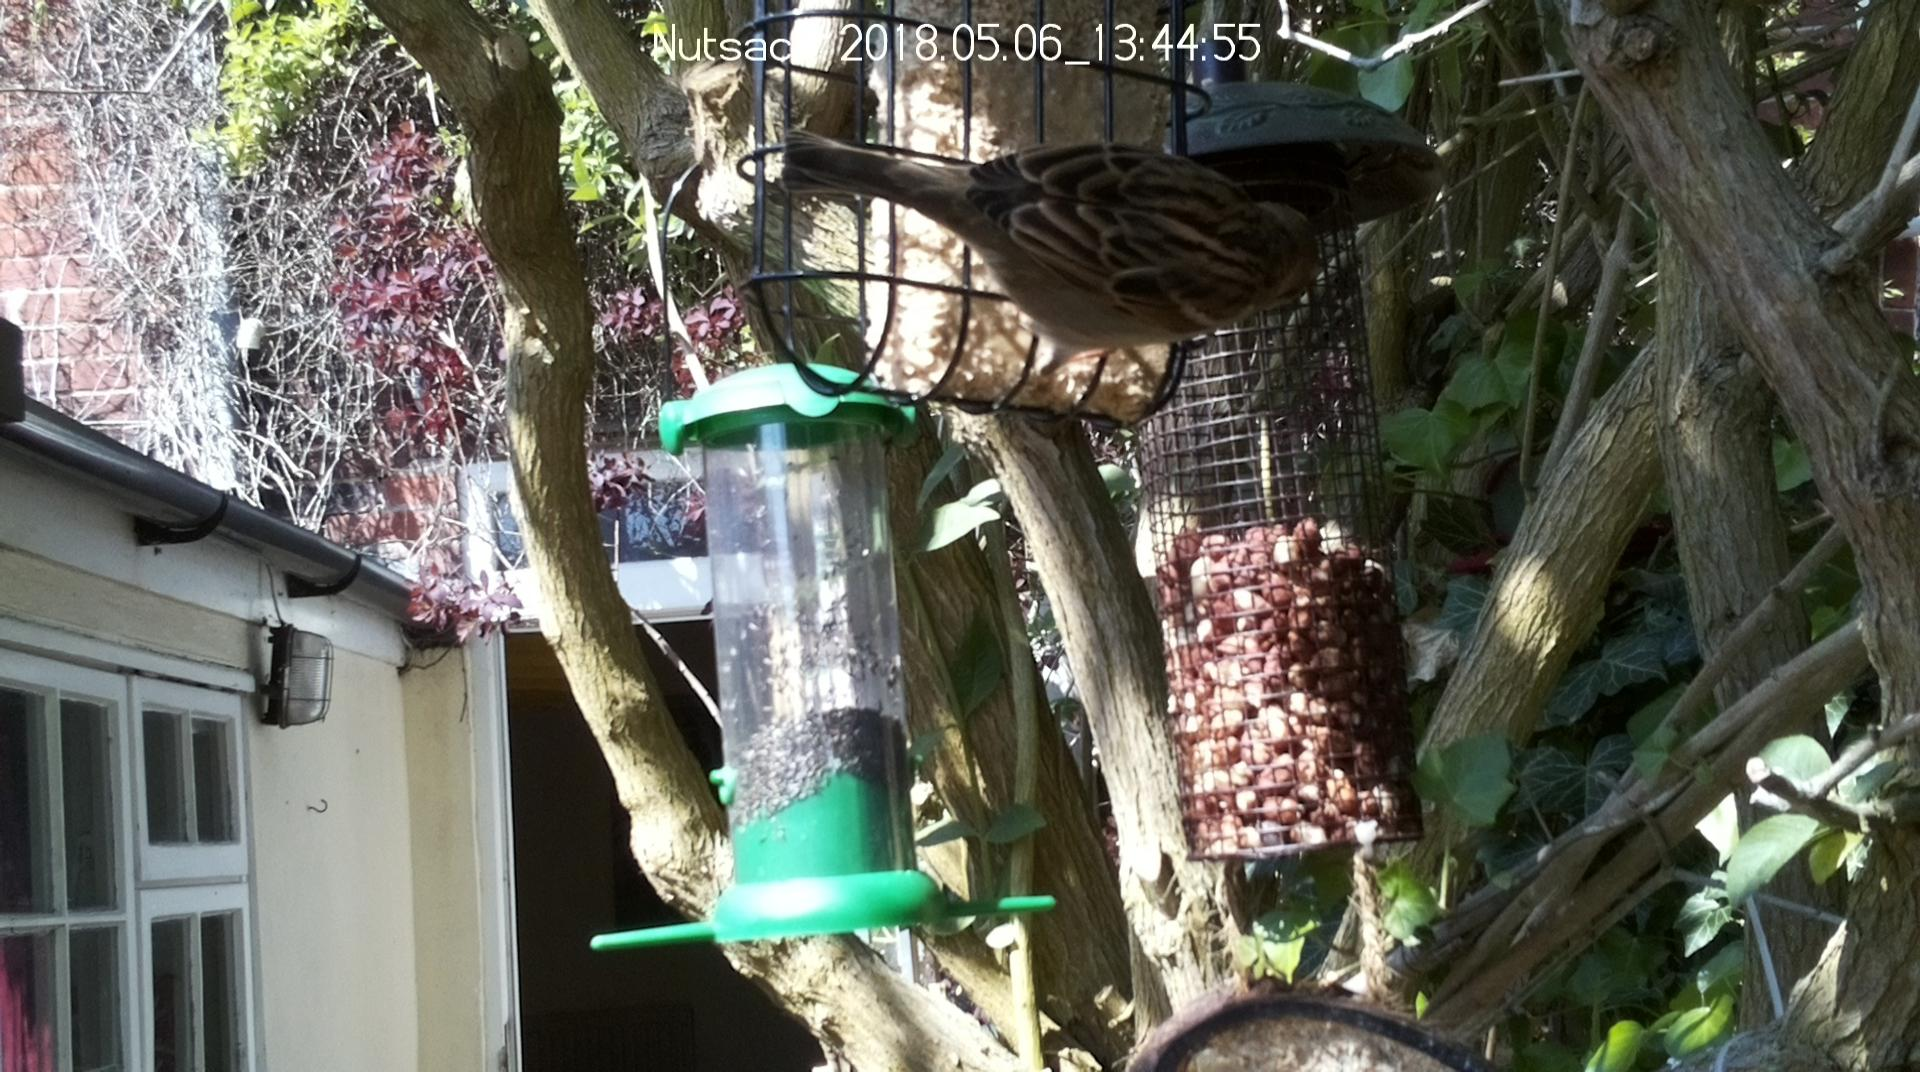sparrow: (781, 131, 1317, 378)
